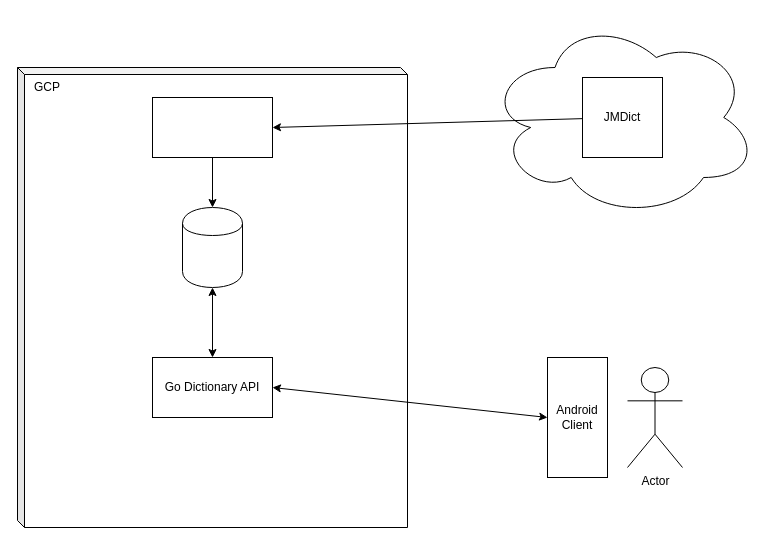
Some shapes in this 775 by 545 pixel diagram are drawn without their labels. The centre of each missing label's shape, as x and y in pixels:
Datastore: the point at 212,247
Go Ingest Service: the point at 212,127
